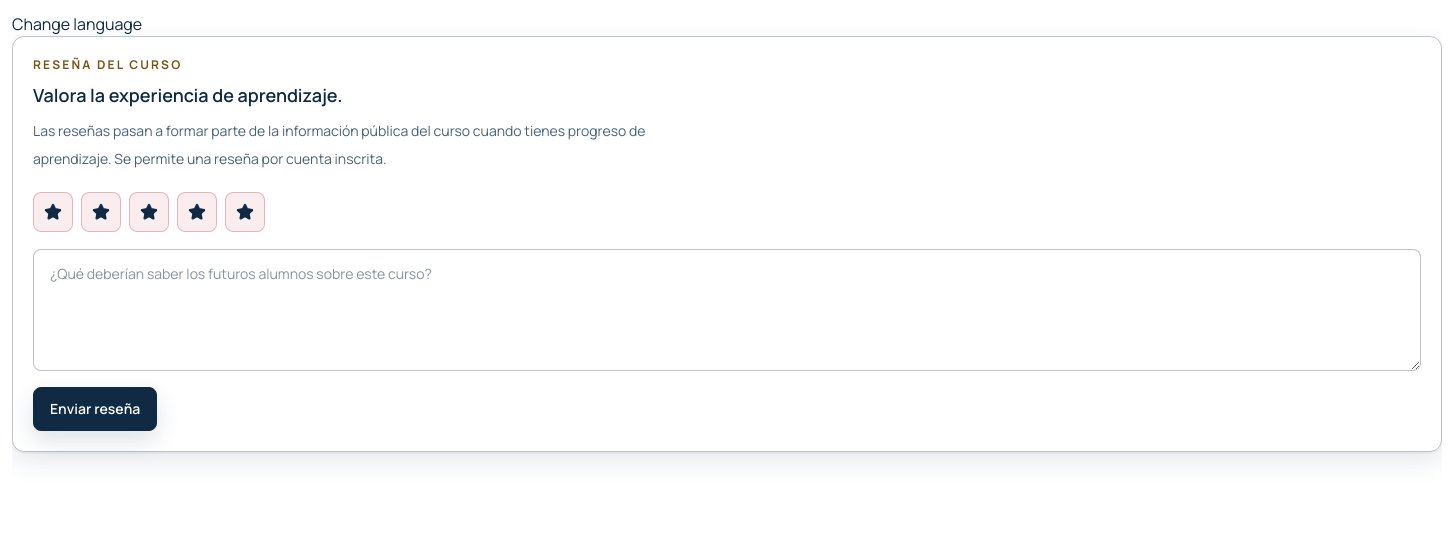
Test: CourseReviewPanel locale and state › localizes a rejected submission without losing its cause or exposing internals: Sign in before reviewing a course.
Type "Draft $$ $&" into the text box. click: (727, 310)
box: [33,249,1421,371]
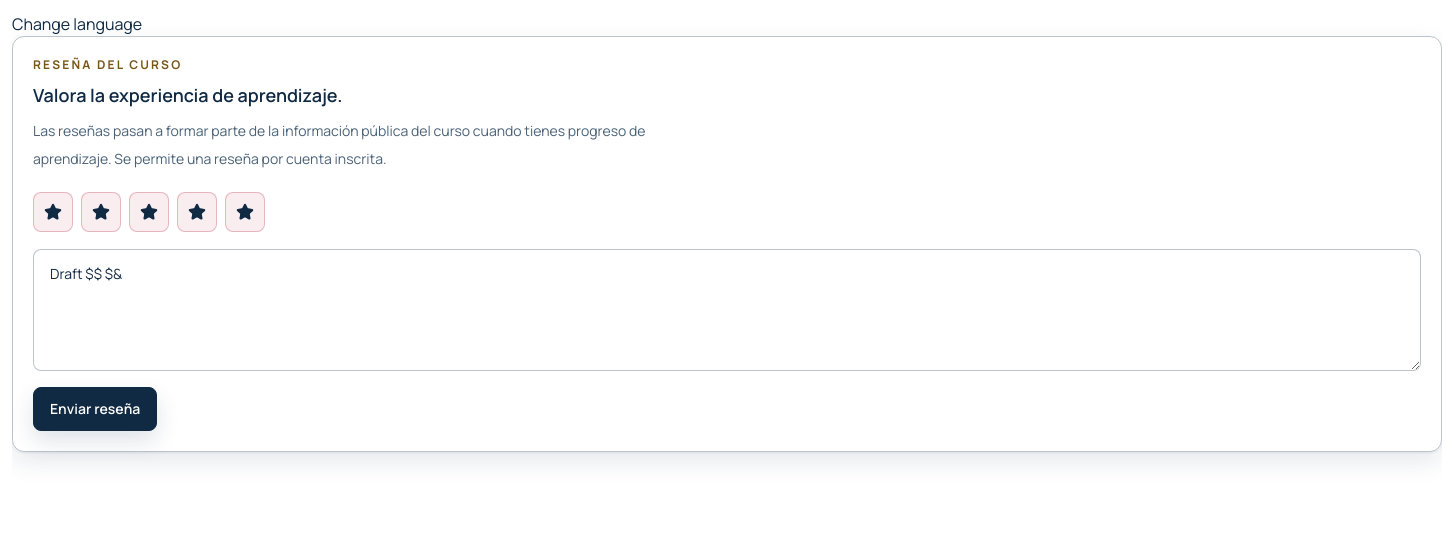
Click the button "Enviar reseña". click: (95, 409)
box: [33,387,157,431]
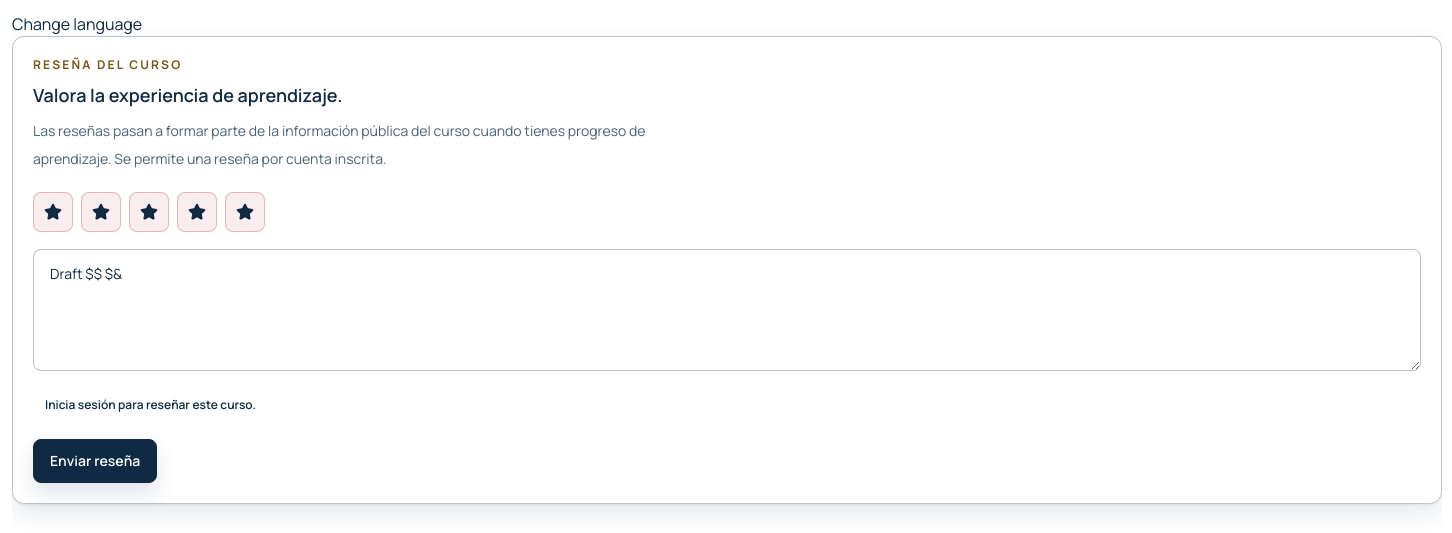
Now the text "Inicia sesión para reseñar este curso." is shown, box [33,387,1421,423]
